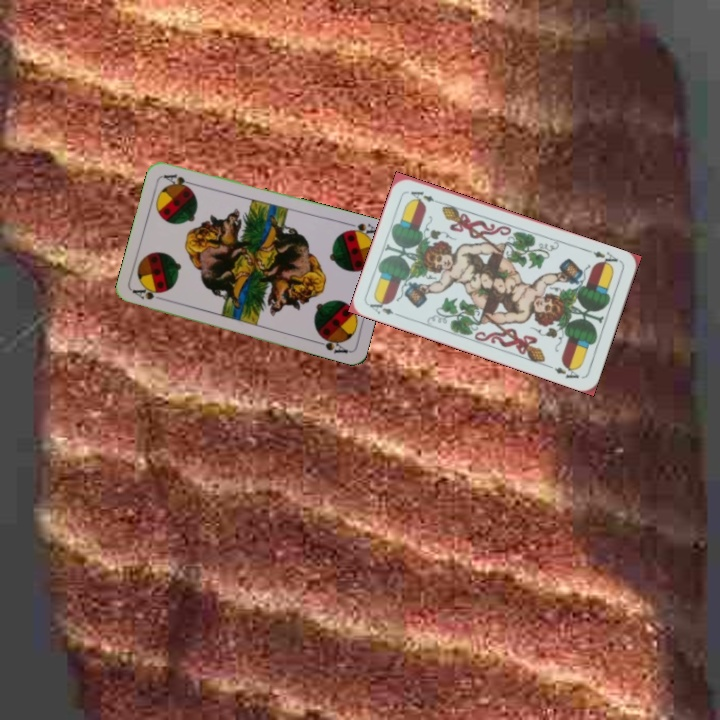EA: (583, 245, 623, 271), (365, 295, 405, 320)
SA: (341, 219, 383, 241), (129, 284, 169, 304)
